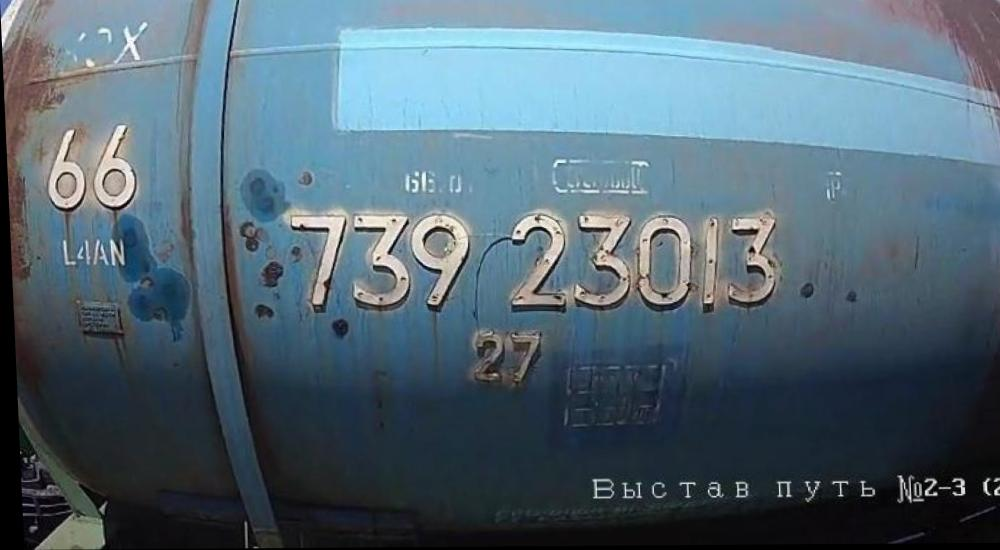Wagon-number: (284, 206, 781, 319)
